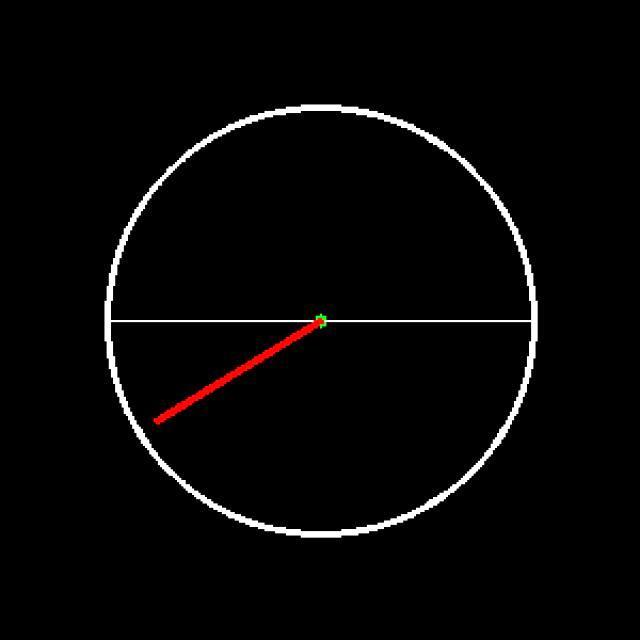Needle_Tip: (139, 387, 189, 452)
Needle_base: (296, 300, 344, 344)
